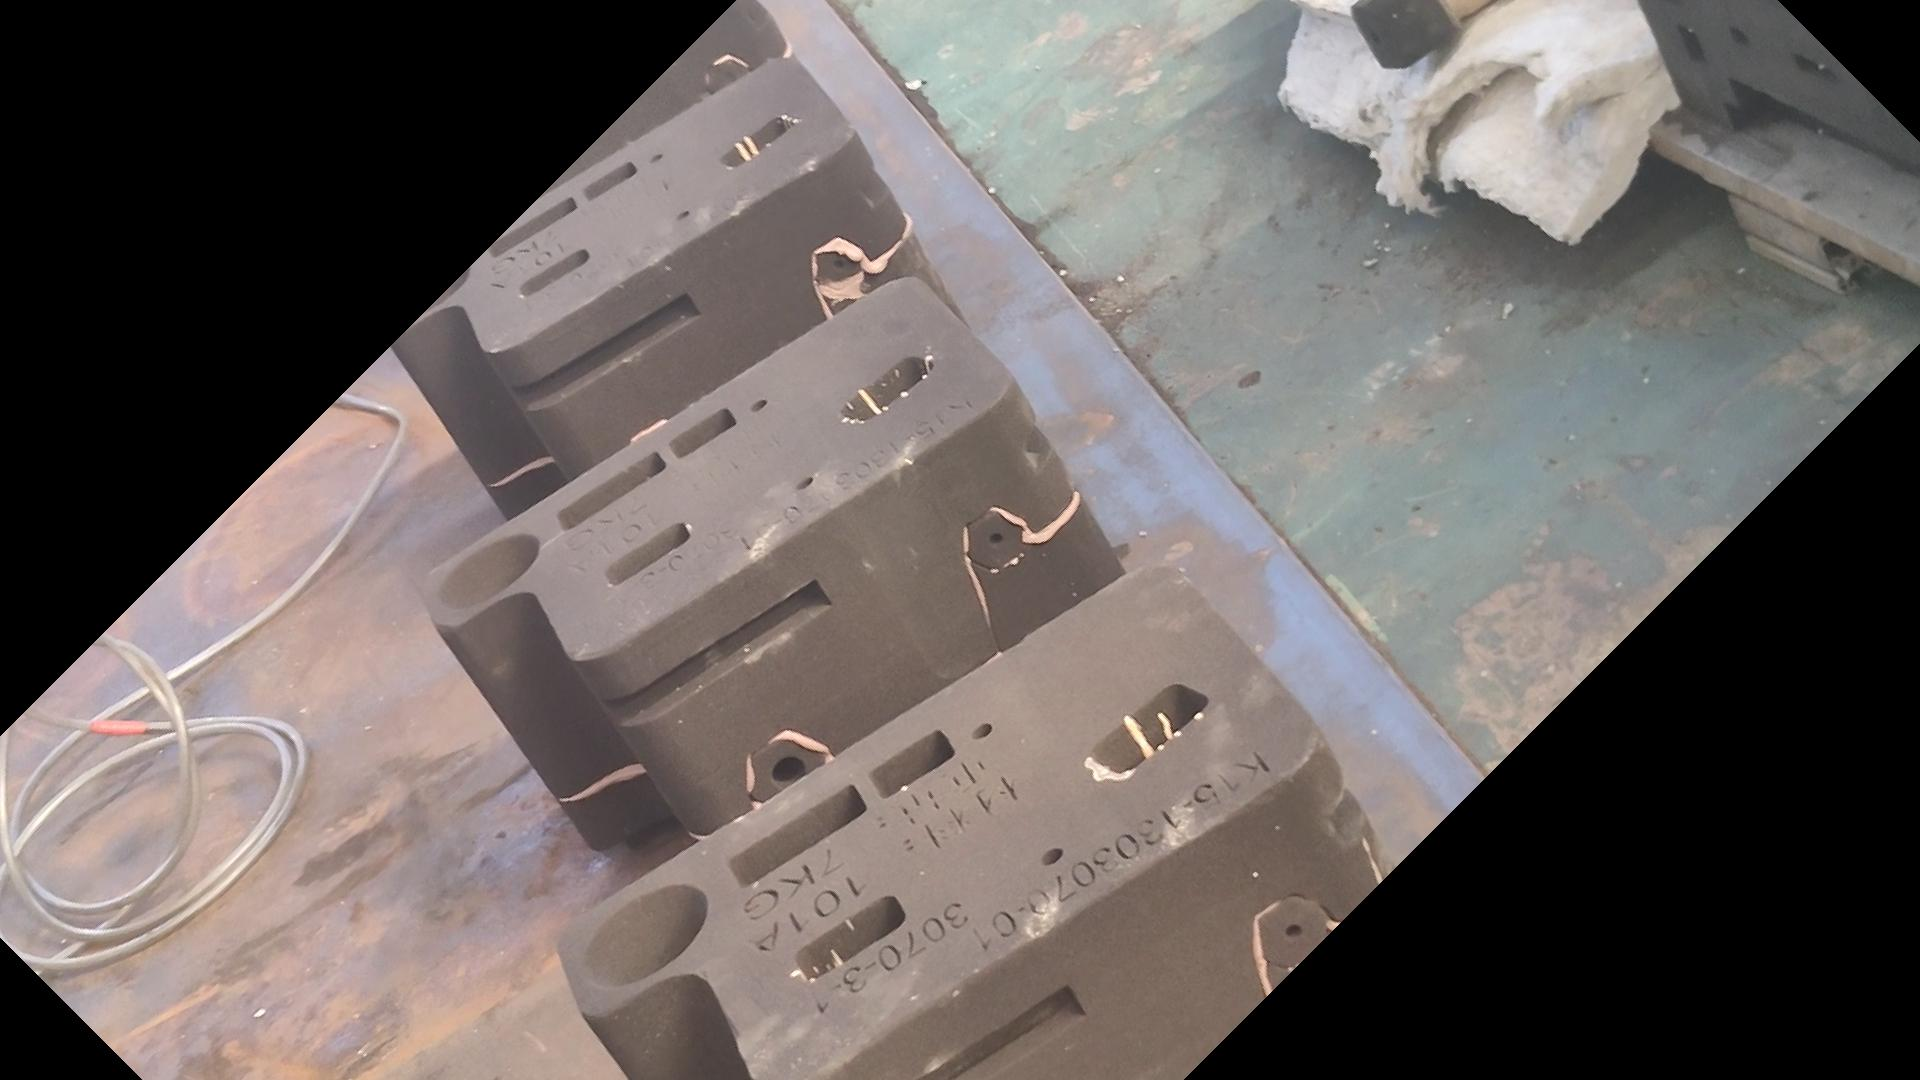pouring hole: (579, 880, 708, 986), (434, 531, 541, 611), (376, 256, 471, 311)
